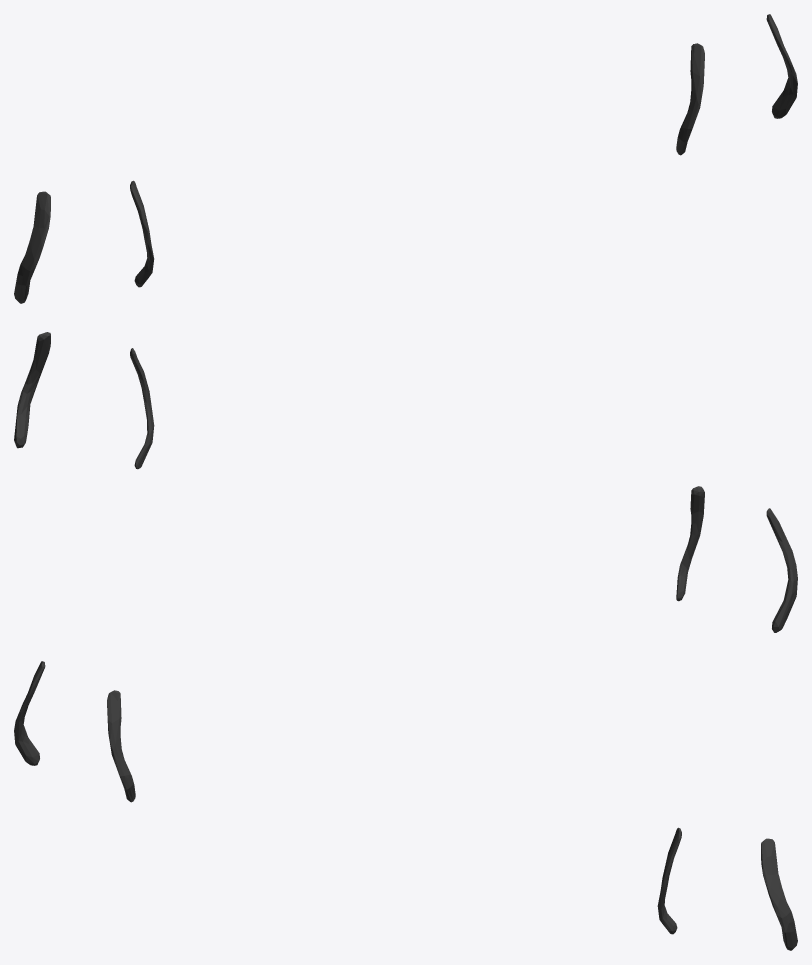
Rendered from lig_collateral_navicular_HL.glb.
The picture shows the model from 3 angles, top to bottom: view 1: azimuth 30°, elevation 25°; view 2: azimuth 150°, elevation 25°; view 3: azimuth 330°, elevation 25°; orthographic projection.
Parts seen in each view (by area): view 1: lig_collateral_navicular_HL; view 2: lig_collateral_navicular_HL; view 3: lig_collateral_navicular_HL.
Boxes of the visible parts, <box> form: lig_collateral_navicular_HL: <box>14,14,797,303</box>; lig_collateral_navicular_HL: <box>14,332,797,632</box>; lig_collateral_navicular_HL: <box>14,661,797,950</box>.
Bounding box in the file's own units: 0.00606 × 0.000866 × 0.000402.
Materials: 1 (1 with a texture image).
